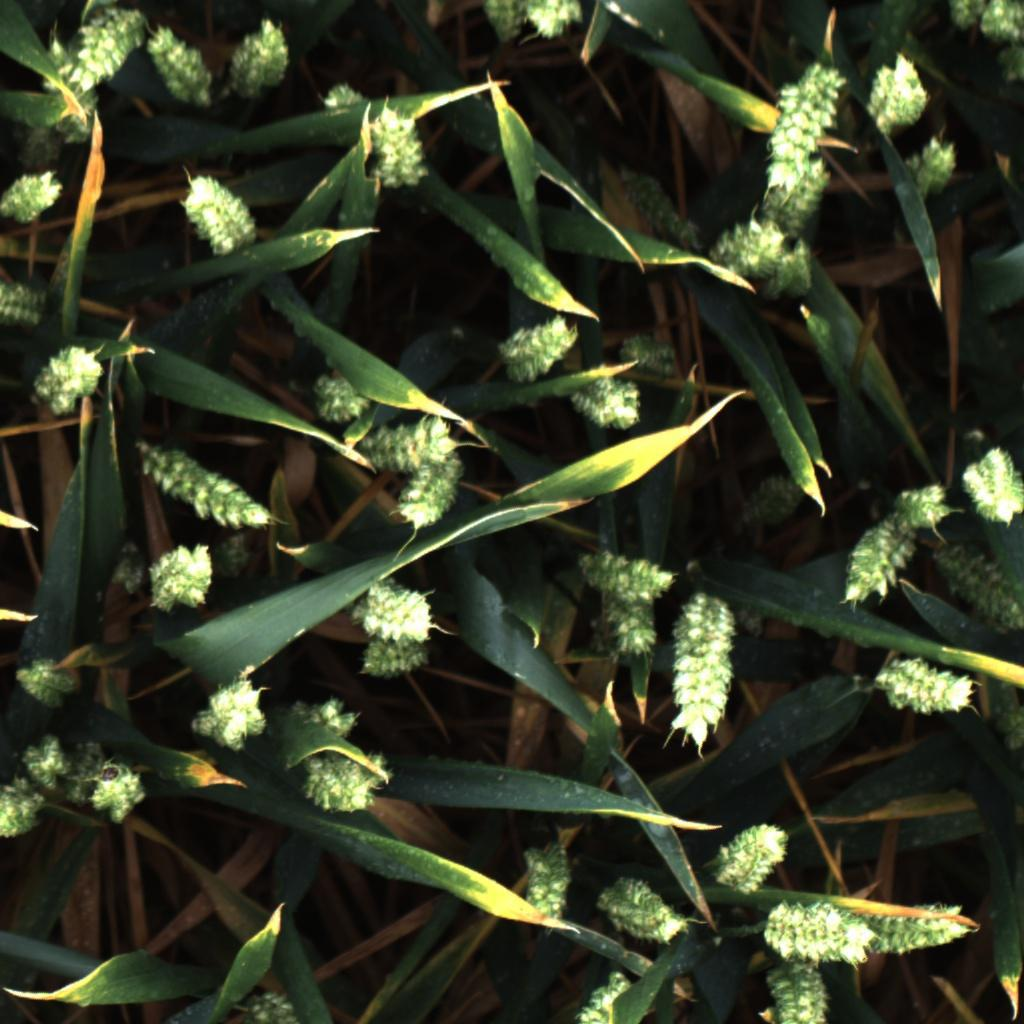0-0: (664, 586, 747, 759), (139, 441, 283, 531), (754, 65, 850, 180), (928, 536, 1024, 637), (831, 512, 923, 614), (761, 899, 885, 971), (174, 165, 259, 265), (38, 18, 102, 149), (60, 1, 150, 93), (619, 157, 706, 252), (707, 807, 798, 897), (760, 150, 841, 248), (867, 653, 978, 724), (141, 18, 221, 113), (357, 102, 433, 200), (595, 871, 693, 944), (192, 669, 273, 757), (495, 306, 581, 386), (860, 896, 972, 957), (350, 571, 438, 647), (359, 410, 466, 472), (590, 574, 661, 667), (855, 53, 930, 141), (568, 361, 647, 442), (574, 548, 682, 606), (518, 837, 579, 938), (24, 342, 106, 417), (223, 16, 297, 99), (702, 213, 788, 284), (395, 454, 471, 534), (894, 123, 970, 202), (142, 537, 216, 615), (300, 752, 383, 821), (961, 444, 1024, 534), (352, 632, 437, 693), (297, 367, 373, 431), (0, 164, 69, 234), (85, 758, 155, 826), (761, 961, 834, 1024), (281, 695, 367, 748), (739, 471, 812, 529), (883, 477, 956, 533), (763, 233, 824, 299), (563, 969, 635, 1024), (13, 651, 83, 707), (610, 329, 684, 381), (8, 731, 74, 789), (0, 773, 50, 848), (985, 671, 1024, 757), (519, 0, 585, 47), (0, 271, 52, 328), (478, 0, 535, 51), (241, 982, 305, 1024), (315, 79, 377, 117), (208, 531, 253, 582), (977, 0, 1024, 48), (933, 0, 994, 36), (988, 41, 1024, 95), (355, 748, 393, 792), (732, 599, 767, 640), (226, 805, 230, 807)
